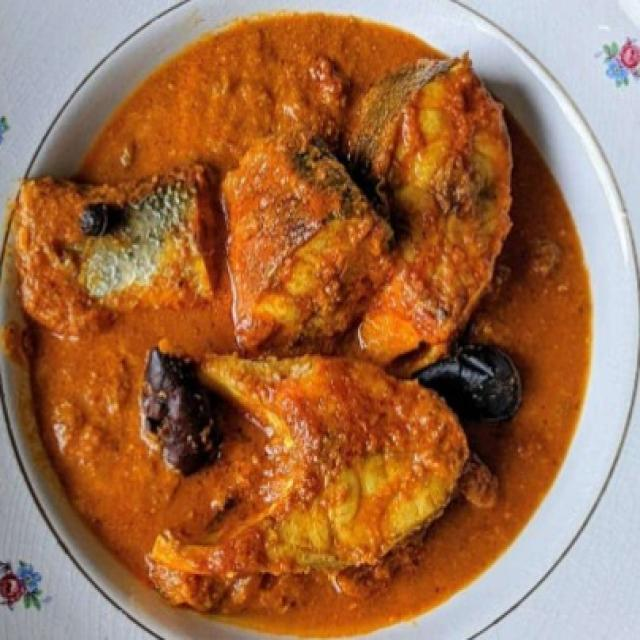FISH CURRY: (13, 17, 584, 632)
